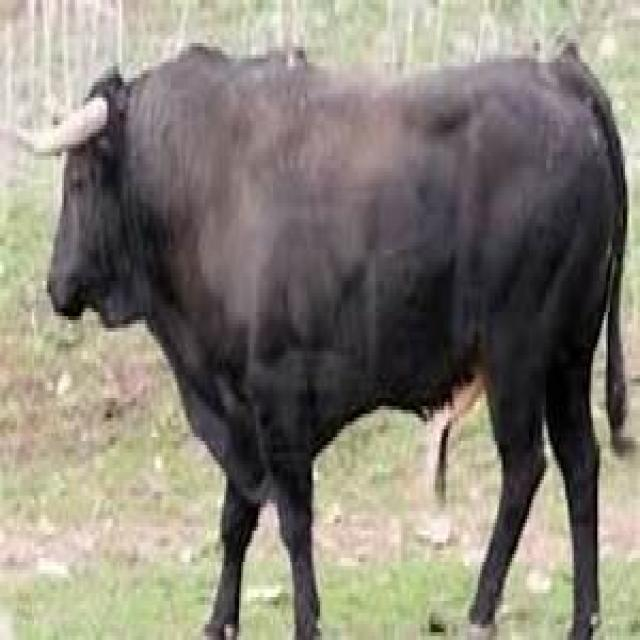cow: (15, 47, 629, 640)
